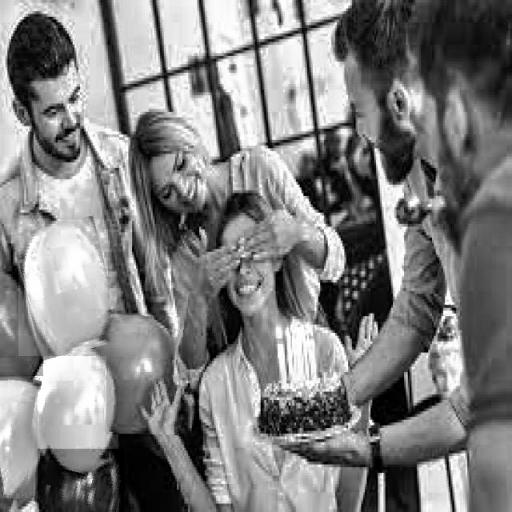balloon: (18, 219, 117, 356), (32, 347, 118, 472), (106, 314, 182, 434), (35, 449, 124, 512), (0, 377, 38, 498), (0, 271, 43, 376)
